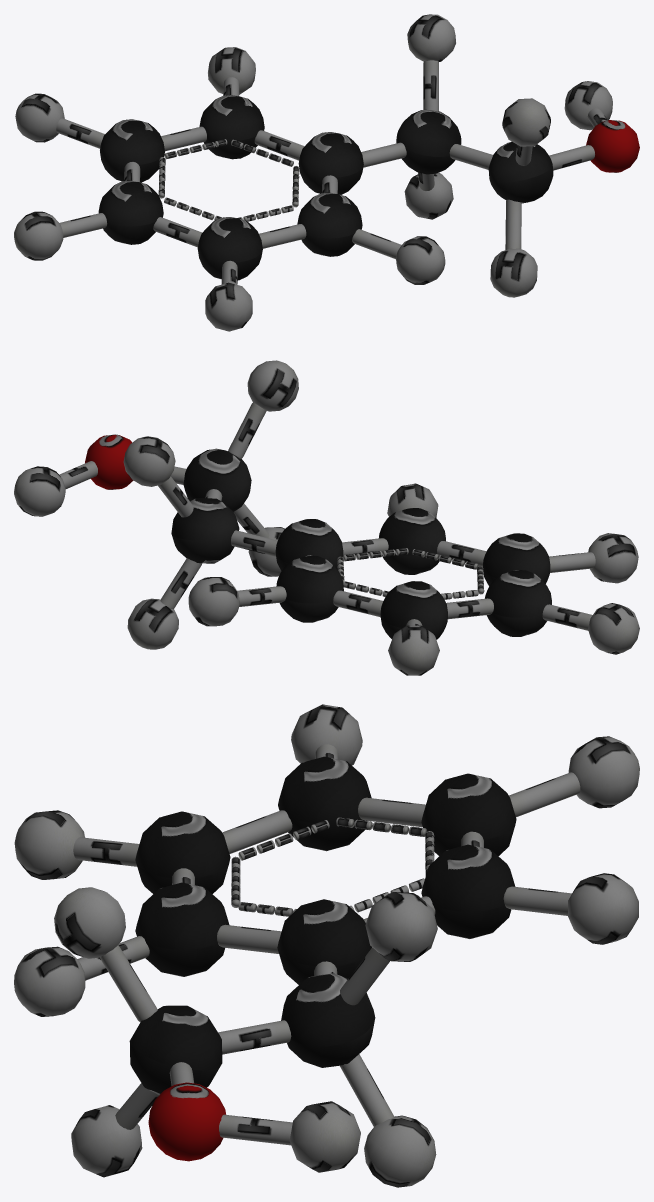
File: Phenylmethanol_2.gltf
3 views of the same model, one above another, from view 1: azimuth 30°, elevation 25°; view 2: azimuth 150°, elevation 25°; view 3: azimuth 270°, elevation 25° (orthographic). The views are drawn at different scales.
Parts seen in each view (by area): view 1: C_Atom_012, C_Atom_09, C_Atom_016, C_Atom_08, C_Atom_011, C_Atom_07, C_Atom_010, C_Atom_019, C_Atom_020, Phenylethanol_dot_Symbol1, H_Atom_024, H_Atom_09 (+20 smaller); view 2: C_Atom_012, C_Atom_010, C_Atom_016, C_Atom_09, C_Atom_019, C_Atom_07, C_Atom_08, C_Atom_011, H_Atom_07, H_Atom_023, H_Atom_021, H_Atom_024 (+21 smaller); view 3: C_Atom_09, C_Atom_010, C_Atom_016, C_Atom_012, C_Atom_019, C_Atom_08, C_Atom_011, C_Atom_07, C_Atom_020, H_Atom_017, H_Atom_09, H_Atom_021 (+21 smaller).
Boxes of the visible parts, box(x1,y1,x2,y2) form: C_Atom_012: box(98, 180, 163, 244); C_Atom_09: box(297, 192, 362, 256); C_Atom_016: box(396, 109, 461, 174); C_Atom_08: box(197, 217, 262, 280); C_Atom_011: box(298, 132, 363, 194); C_Atom_07: box(100, 119, 164, 182); C_Atom_010: box(199, 95, 264, 159); C_Atom_019: box(488, 141, 553, 203); C_Atom_020: box(586, 120, 639, 172); Phenylethanol_dot_Symbol1: box(158, 139, 299, 221); H_Atom_024: box(14, 211, 63, 260); H_Atom_09: box(396, 236, 445, 284); C_Atom_012: box(485, 570, 551, 636); C_Atom_010: box(276, 555, 343, 622); C_Atom_016: box(171, 498, 239, 563); C_Atom_09: box(379, 508, 445, 574); C_Atom_019: box(183, 448, 251, 511); C_Atom_07: box(380, 581, 447, 639); C_Atom_08: box(483, 533, 550, 585); C_Atom_011: box(275, 519, 343, 570); H_Atom_07: box(188, 577, 239, 626); H_Atom_023: box(14, 466, 65, 516); H_Atom_021: box(247, 360, 298, 411); H_Atom_024: box(588, 603, 639, 654); C_Atom_09: box(135, 882, 229, 976); C_Atom_010: box(421, 844, 515, 938); C_Atom_016: box(281, 973, 375, 1067); C_Atom_012: box(278, 756, 371, 851); C_Atom_019: box(129, 1005, 222, 1095); C_Atom_08: box(135, 811, 230, 893); C_Atom_011: box(277, 899, 371, 984); C_Atom_07: box(421, 773, 516, 855); C_Atom_020: box(148, 1082, 226, 1161); H_Atom_017: box(364, 1115, 436, 1187); H_Atom_09: box(14, 946, 85, 1016); H_Atom_021: box(54, 887, 125, 958).
Bounding box in the file's own units: 2.2 × 0.7105 × 1.38.
3 materials, 3 textured.
